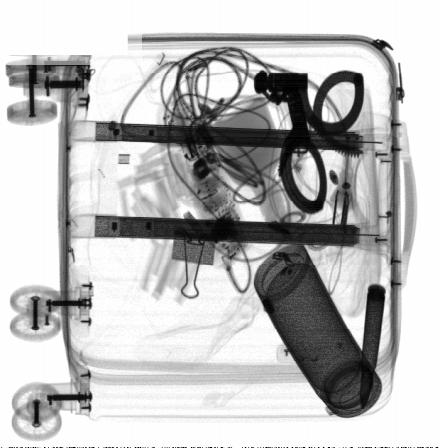Bullet: (360, 283, 386, 411)
HandCuffs: (252, 68, 366, 213)
